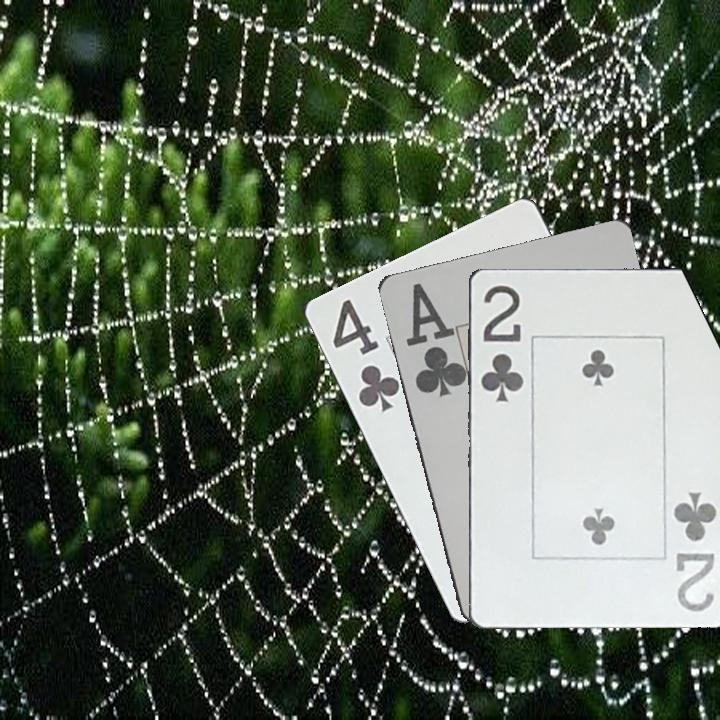2c: (670, 487, 719, 614), (477, 281, 526, 404)
4c: (328, 295, 403, 415)
Ac: (401, 279, 465, 400)
